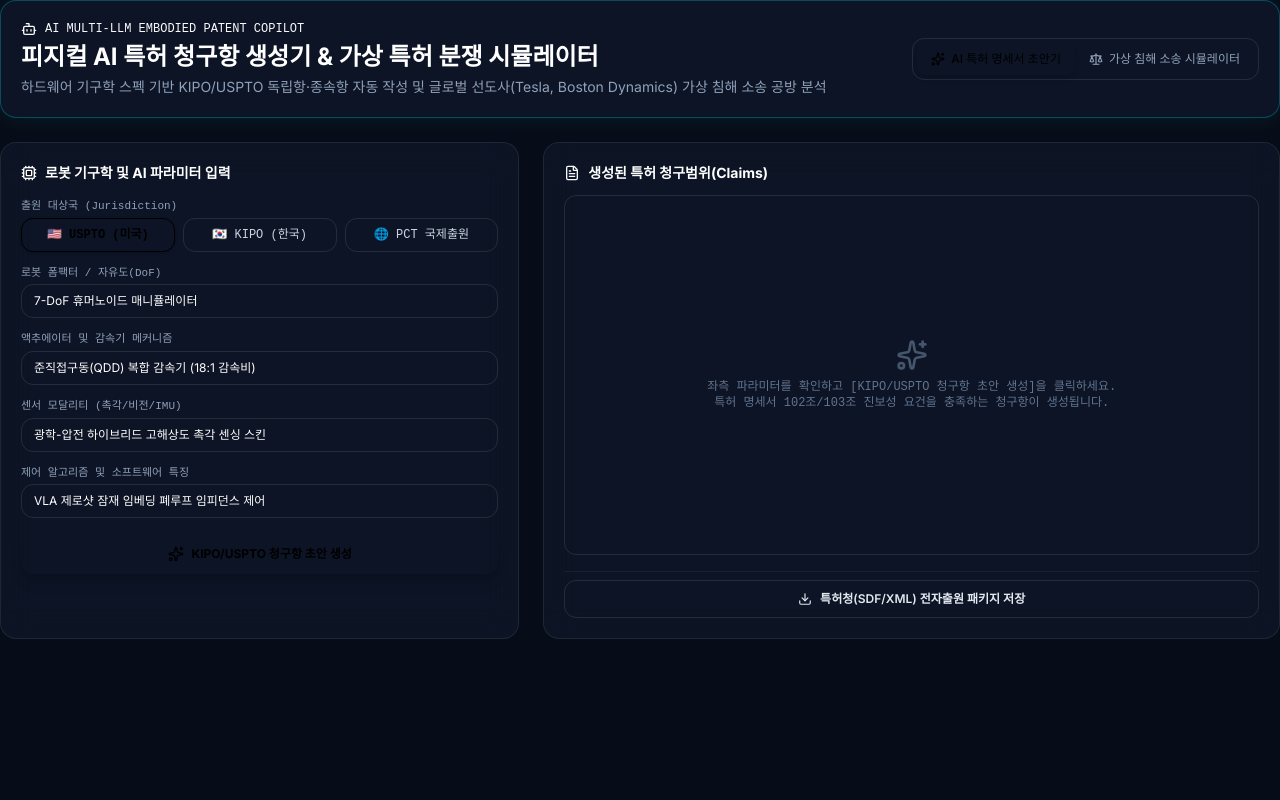
Scenario: Advanced AI Patent Copilot & Virtual Litigation Simulator › renders Claim Generator mode and generates USPTO/KIPO claims
Expected: the heading "피지컬 AI 특허 청구항 생성기 & 가상 특허 분쟁 시뮬레이터" is shown, x1=21 y1=42 x2=599 y2=71
Expected: the heading "로봇 기구학 및 AI 파라미터 입력" is shown, x1=21 y1=164 x2=230 y2=181
What coordinates should you click on to do the following:
click the button "KIPO/USPTO 청구항 초안 생성"
I would click on:
 (260, 554)
Its box is x1=21 y1=534 x2=498 y2=574.
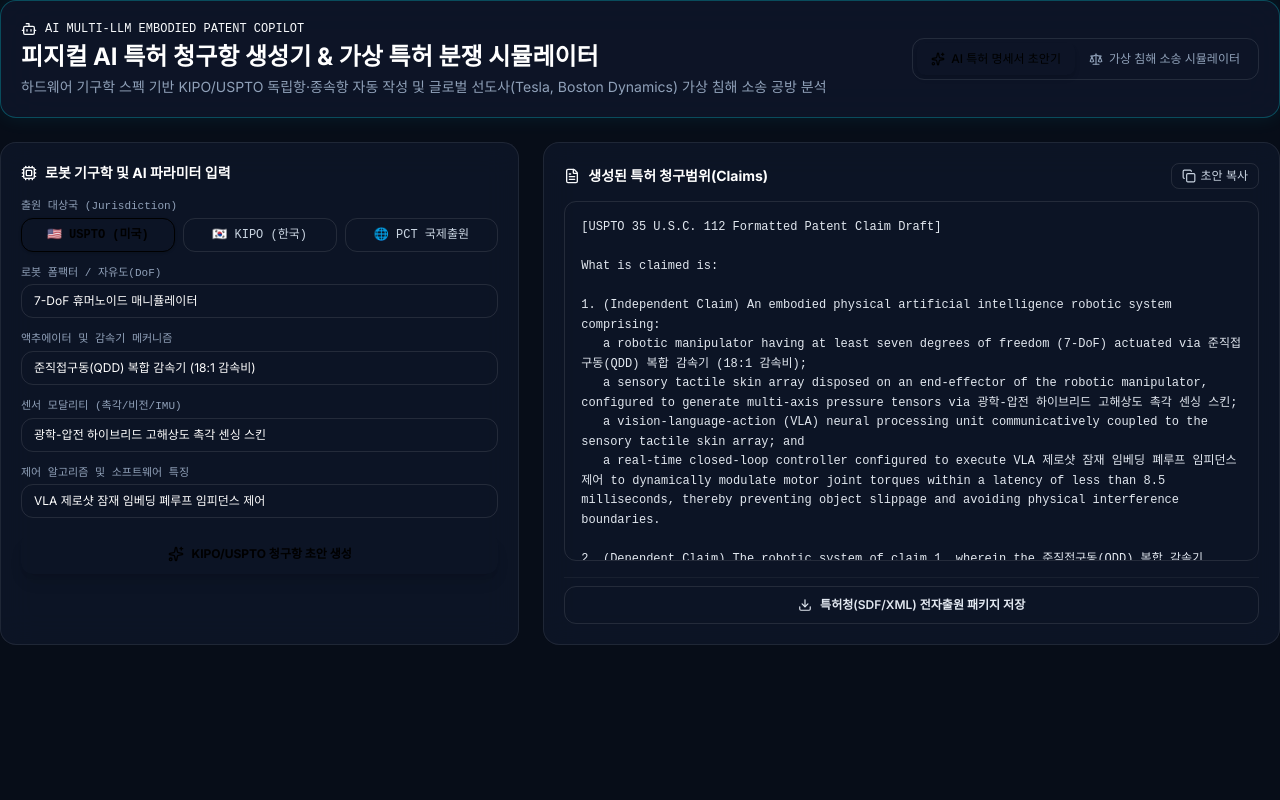
Expected: the text "What is claimed is:" is shown, x1=581 y1=220 x2=1248 y2=682
